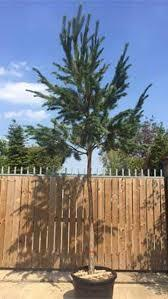tree: (26, 3, 153, 269)
